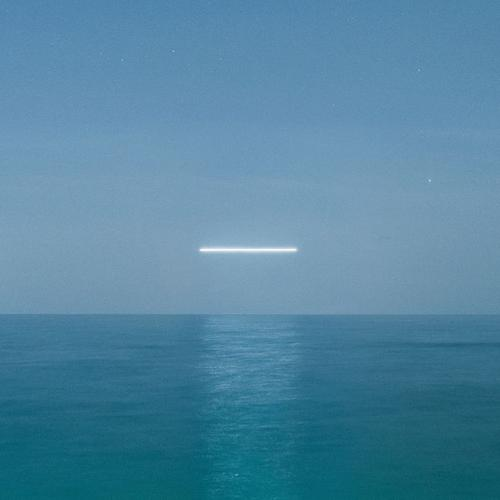sea_river: (18, 321, 489, 489)
sky_cloud: (16, 52, 470, 296)
